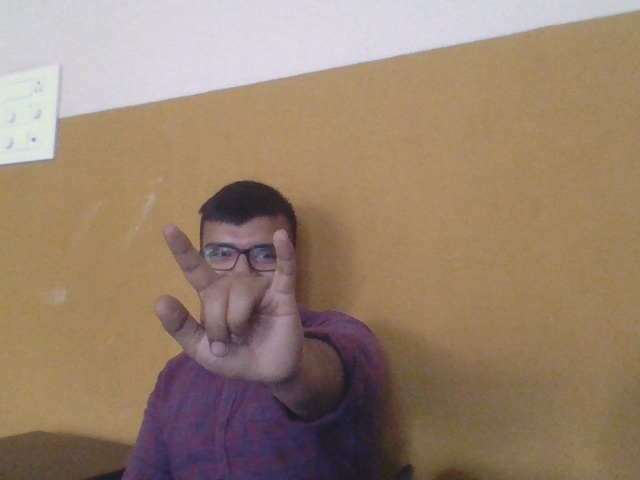I Love You: (147, 211, 314, 395)
